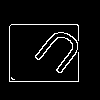U: (25, 25, 87, 84)
